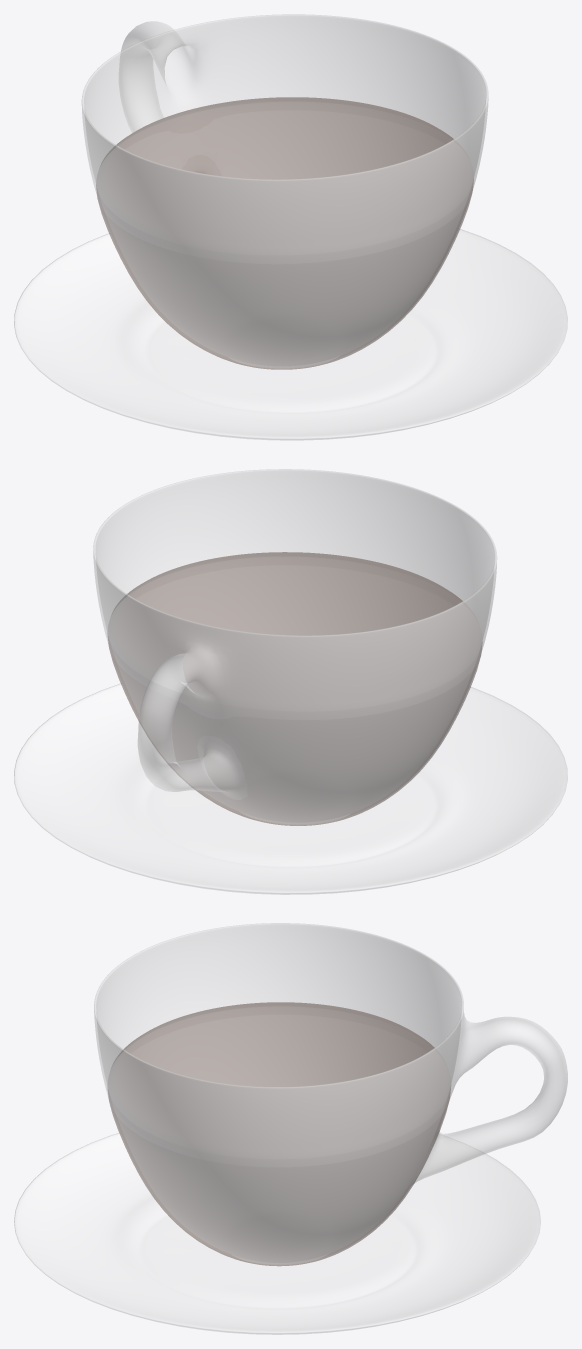
Rendered from asset.glb.
3 views of the same model, one above another, from view 1: azimuth 30°, elevation 25°; view 2: azimuth 150°, elevation 25°; view 3: azimuth 270°, elevation 25° (orthographic). The views are drawn at different scales.
Visible parts, largest first — view 1: Cylinder, Circle, Liquid; view 2: Cylinder, Circle, Liquid; view 3: Cylinder, Circle, Liquid.
Part boxes in pixels (x1,y1,x2,y2): Cylinder: (82, 14, 488, 367); Circle: (14, 229, 567, 440); Liquid: (96, 97, 473, 369); Cylinder: (93, 469, 496, 824); Circle: (14, 683, 567, 894); Liquid: (108, 552, 482, 825); Cylinder: (94, 923, 567, 1264); Circle: (14, 1133, 540, 1334); Liquid: (108, 1002, 450, 1265).
Size of the model in its own units: 0.2337 by 0.1186 by 0.2456.
